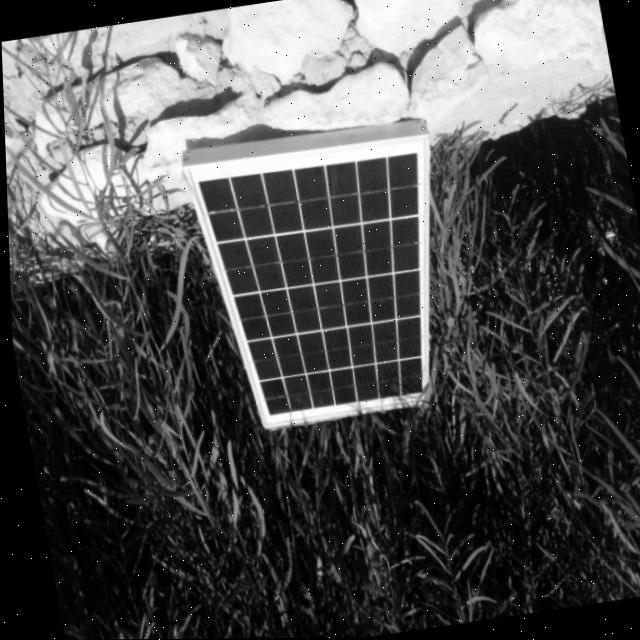Normal Solar Panel: (187, 134, 468, 430)
